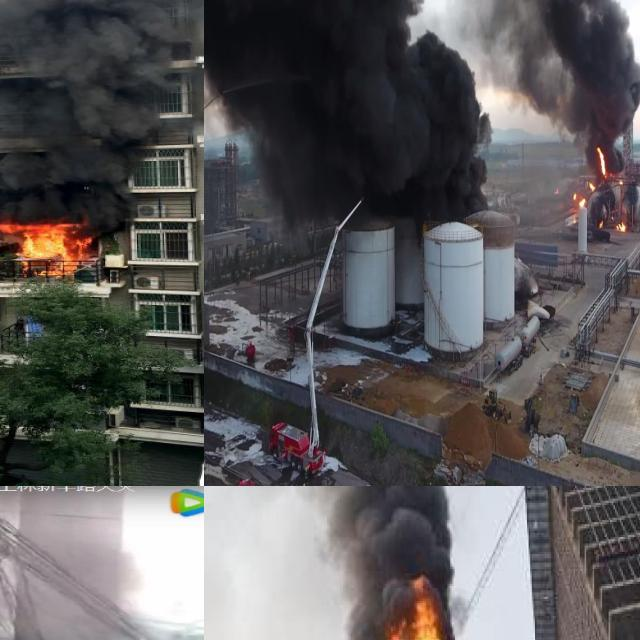fire: (0, 216, 93, 274), (573, 143, 633, 232), (364, 579, 447, 640)
smoke: (204, 0, 485, 231), (0, 0, 204, 223), (204, 486, 475, 624), (456, 0, 640, 164), (11, 498, 169, 640)
